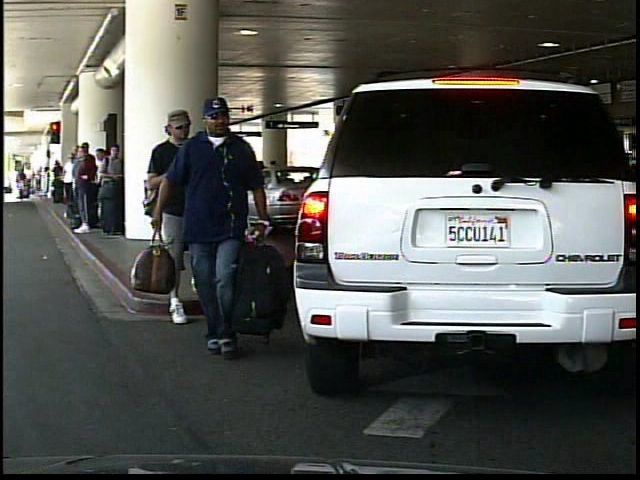person: (163, 93, 293, 362), (144, 102, 220, 302), (182, 134, 230, 256)
